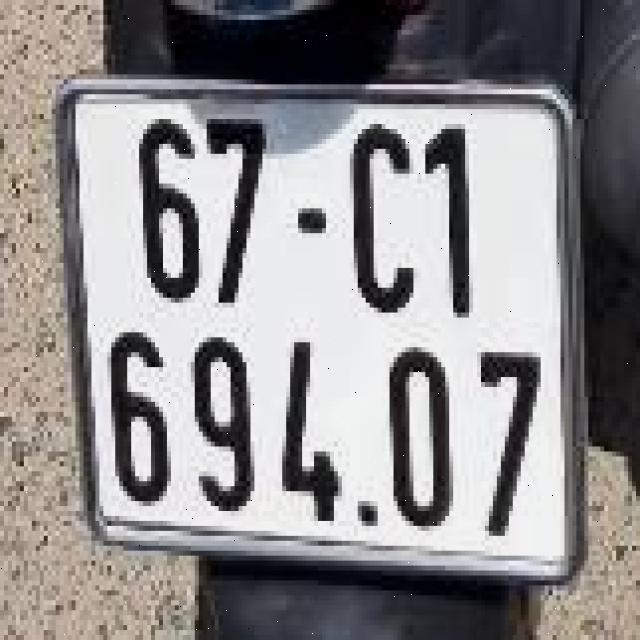0: (378, 330, 465, 543)
1: (425, 107, 481, 325)
4: (266, 295, 350, 538)
6: (99, 317, 187, 516), (131, 94, 207, 318)
7: (459, 322, 547, 556), (201, 94, 268, 318)
9: (183, 325, 270, 533)
C: (338, 109, 421, 323)
